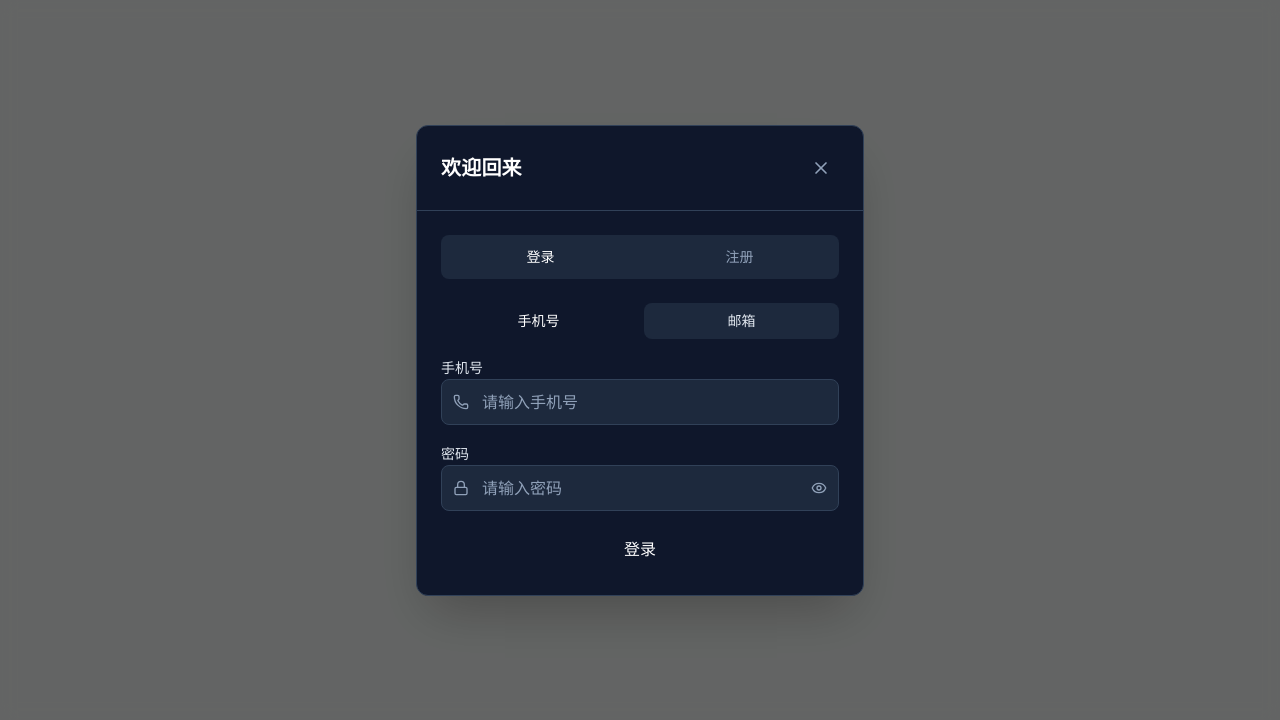
Test: AuthModal › should switch back to login mode when login tab is clicked
What coordinates should you click on to do the following:
click the button "注册"
I would click on:
 (740, 256)
Its box is [644,238,835,274].
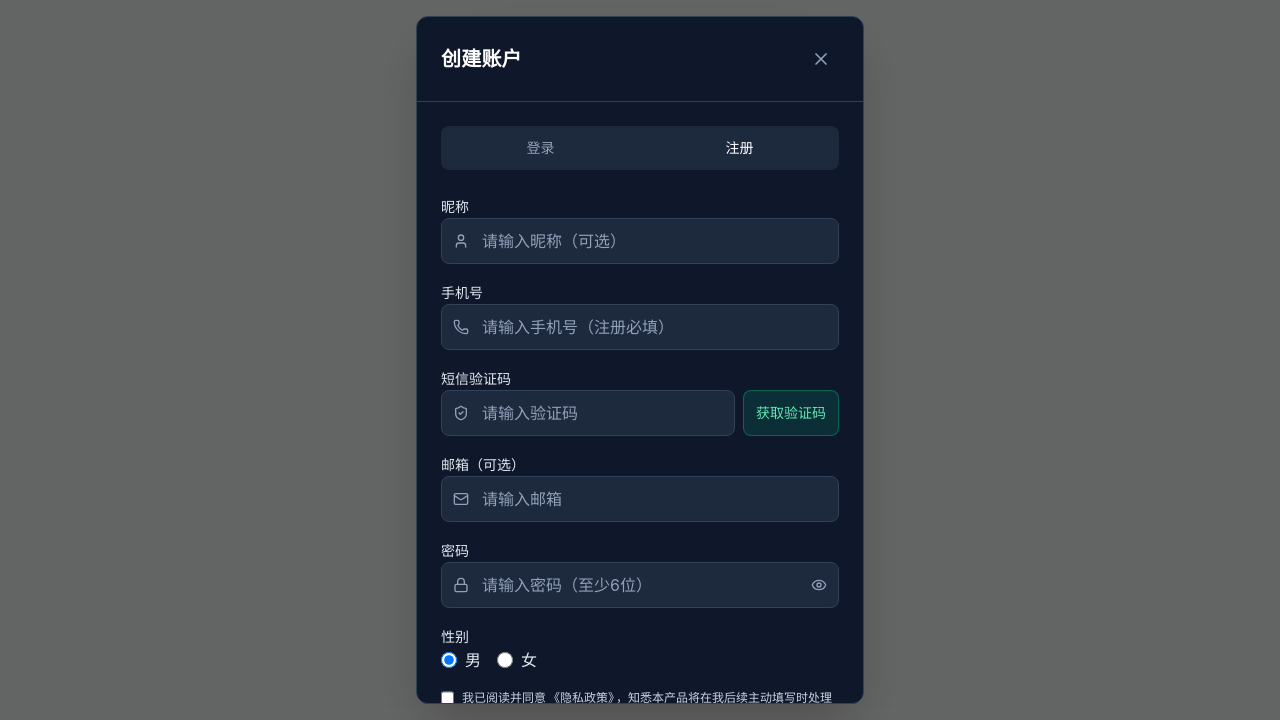
What coordinates should you click on to do the following:
click the button "登录"
I would click on:
 (540, 148)
Its box is [445,130,636,166].
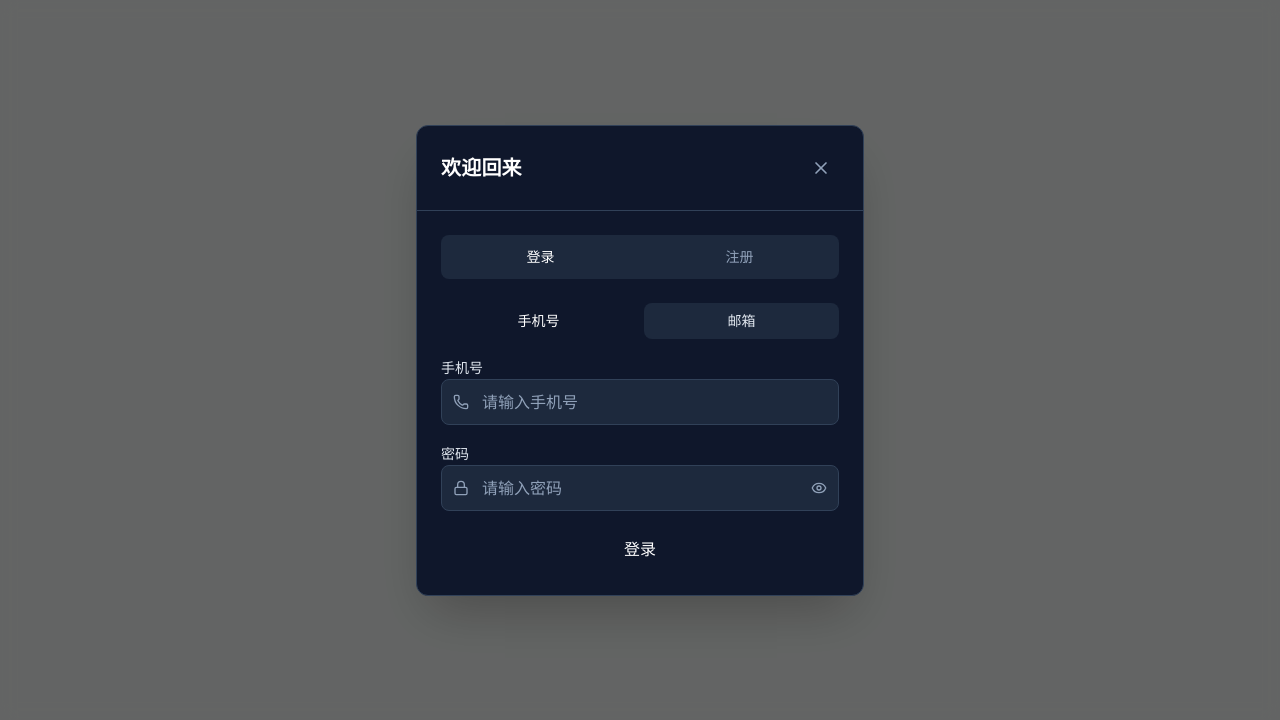
Expected: the heading "欢迎回来" is shown, [441,154,522,182]
